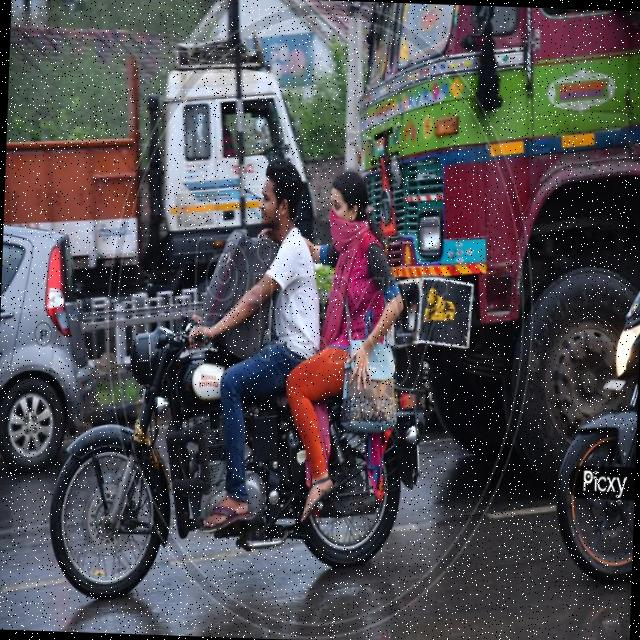No helmet: (245, 151, 322, 242)
